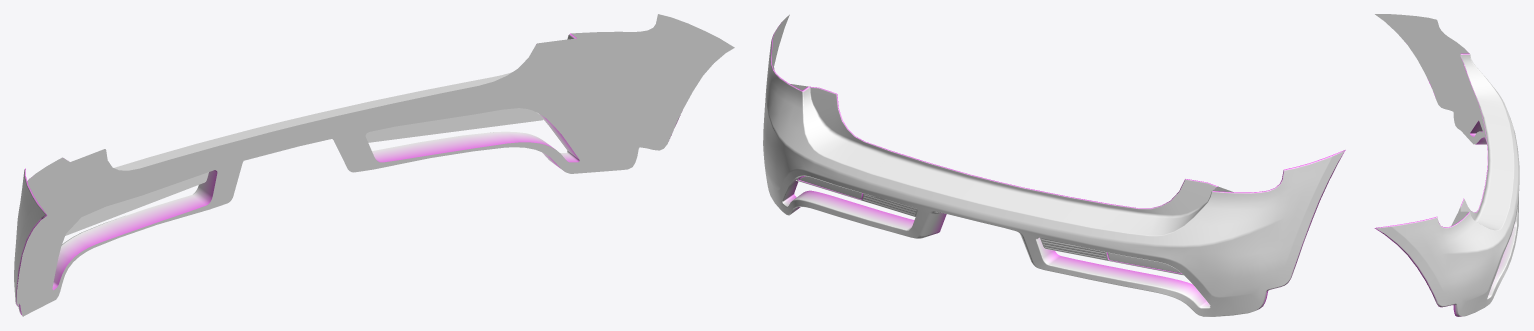
Rendered from Car_Mini_CountrymanJCW_2017_BumperR_SetC.fbx.
3 renders of one model, left to right at view 1: azimuth 30°, elevation 25°; view 2: azimuth 150°, elevation 25°; view 3: azimuth 270°, elevation 25°, orthographic. The views are drawn at different scales.
Visible parts, largest first — view 1: BumperR 6; view 2: BumperR 6; view 3: BumperR 6.
Part boxes in pixels (x1=…): BumperR 6: x1=14, y1=14, x2=734, y2=316; BumperR 6: x1=763, y1=14, x2=1345, y2=316; BumperR 6: x1=1374, y1=14, x2=1519, y2=316.
Bounding box in the file's own units: 1.7 × 0.3948 × 0.4883.
